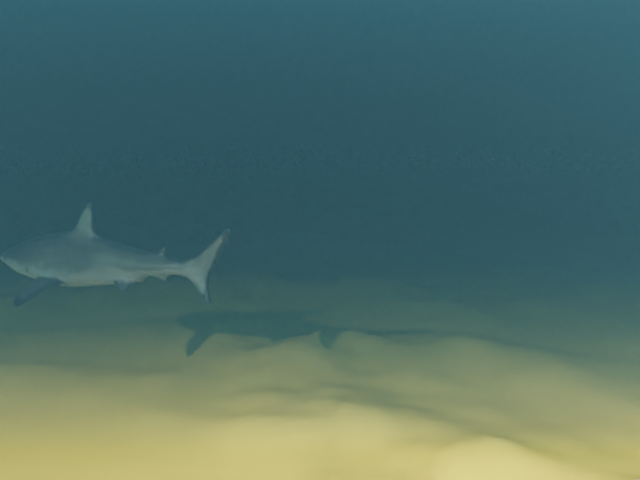Carribean Shark.001: (0, 201, 231, 307)
